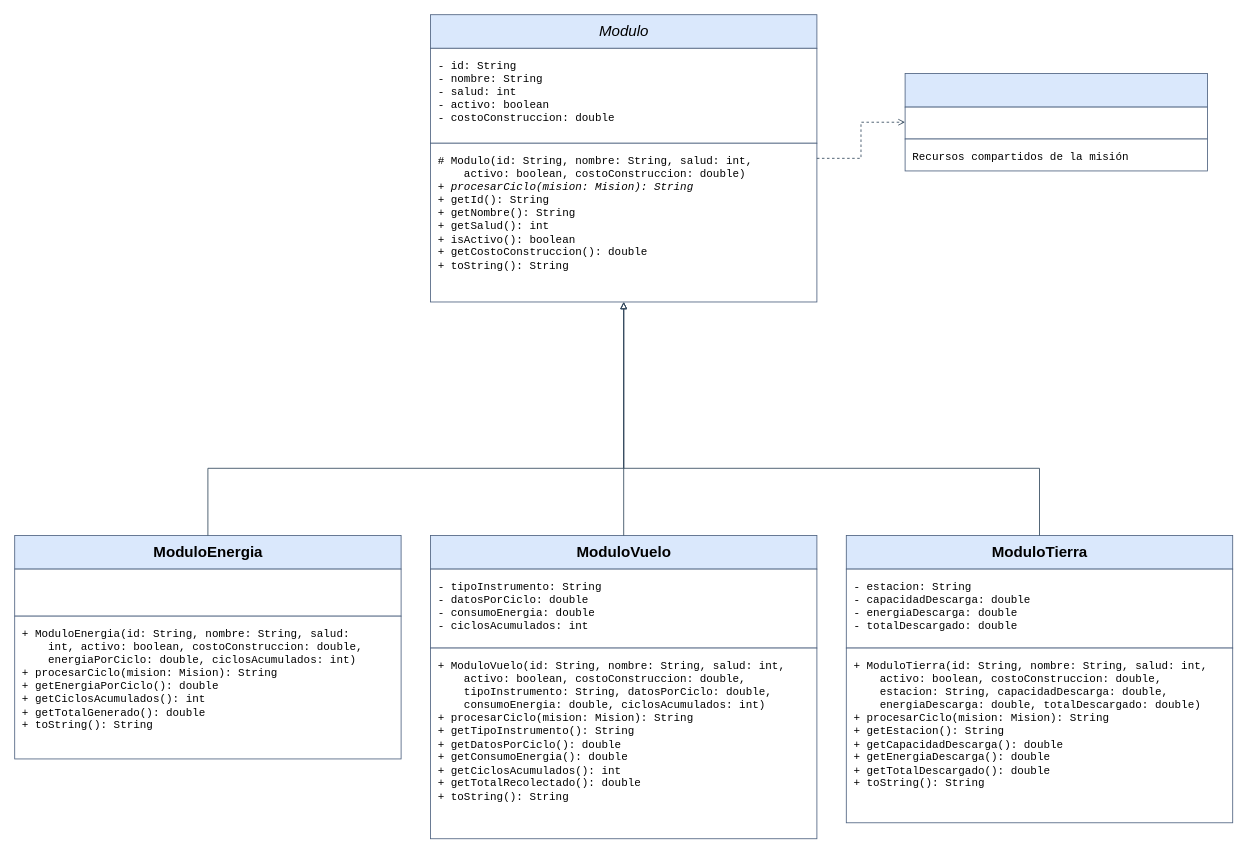
Some shapes in this 1247 by 853 pixel diagram are drawn without their labels. Each missing label, with the centre of its shape:
- energiaPorCiclo: double - ciclosAcumulados: int: point (207, 592)
Mision: point (1056, 90)
